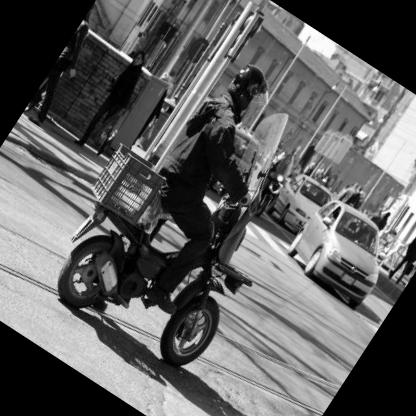car: (277, 190, 403, 316), (264, 166, 335, 241)
moto: (14, 134, 313, 411)
